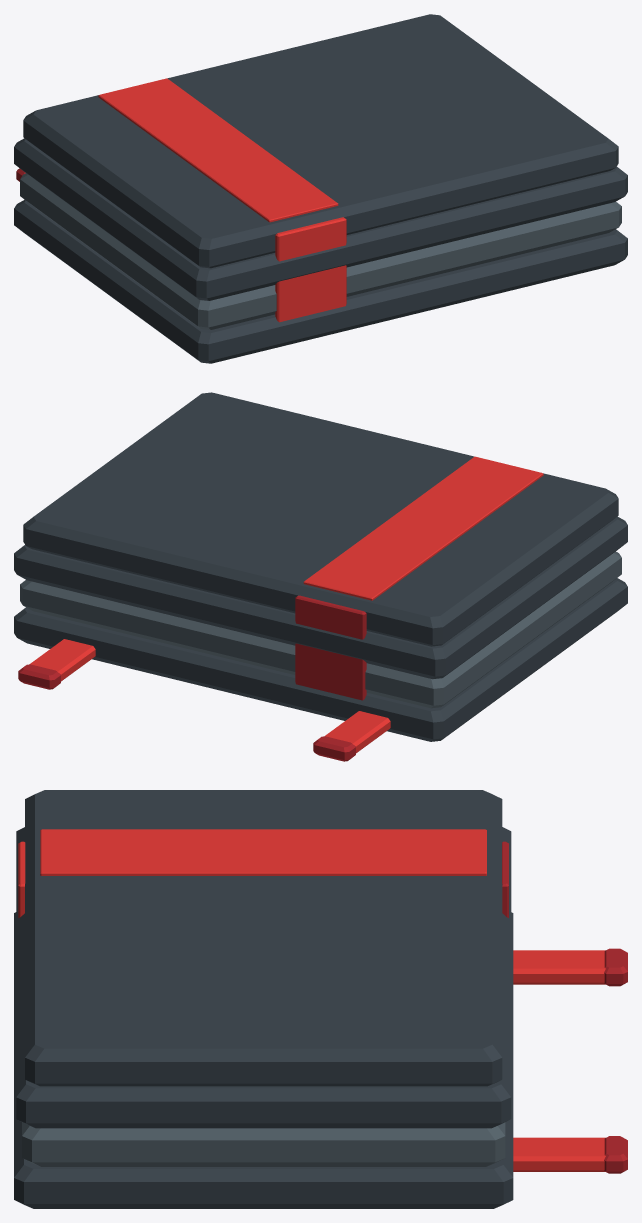
Rendered from fire-blanket.glb.
3 views of the same model, one above another, from view 1: azimuth 30°, elevation 25°; view 2: azimuth 150°, elevation 25°; view 3: azimuth 270°, elevation 25° (orthographic). The views are drawn at different scales.
Parts seen in each view (by area): view 1: fire-blanket; view 2: fire-blanket; view 3: fire-blanket.
Boxes of the visible parts, bbox=[...] form: fire-blanket: bbox=[14, 14, 627, 363]; fire-blanket: bbox=[14, 392, 627, 761]; fire-blanket: bbox=[14, 790, 627, 1208].
Bounding box in the file's own units: 0.442 × 0.1205 × 0.418.
1 material, 1 textured.
